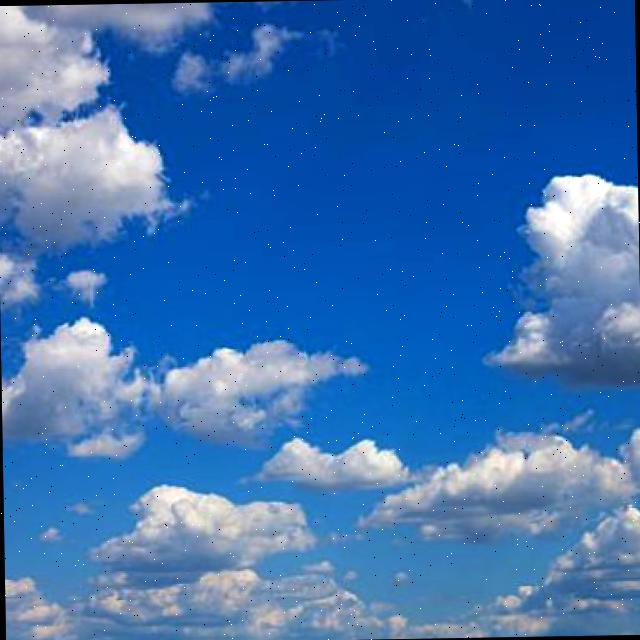Cu: (1, 36, 640, 621)
